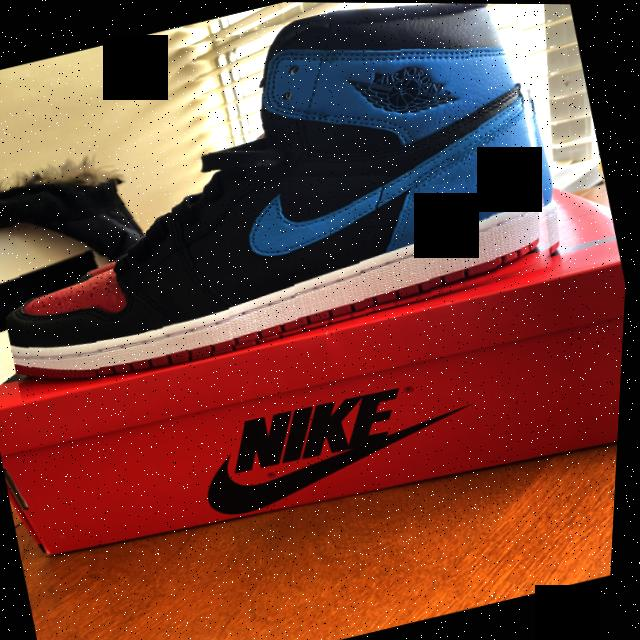shoe: (0, 0, 587, 403)
